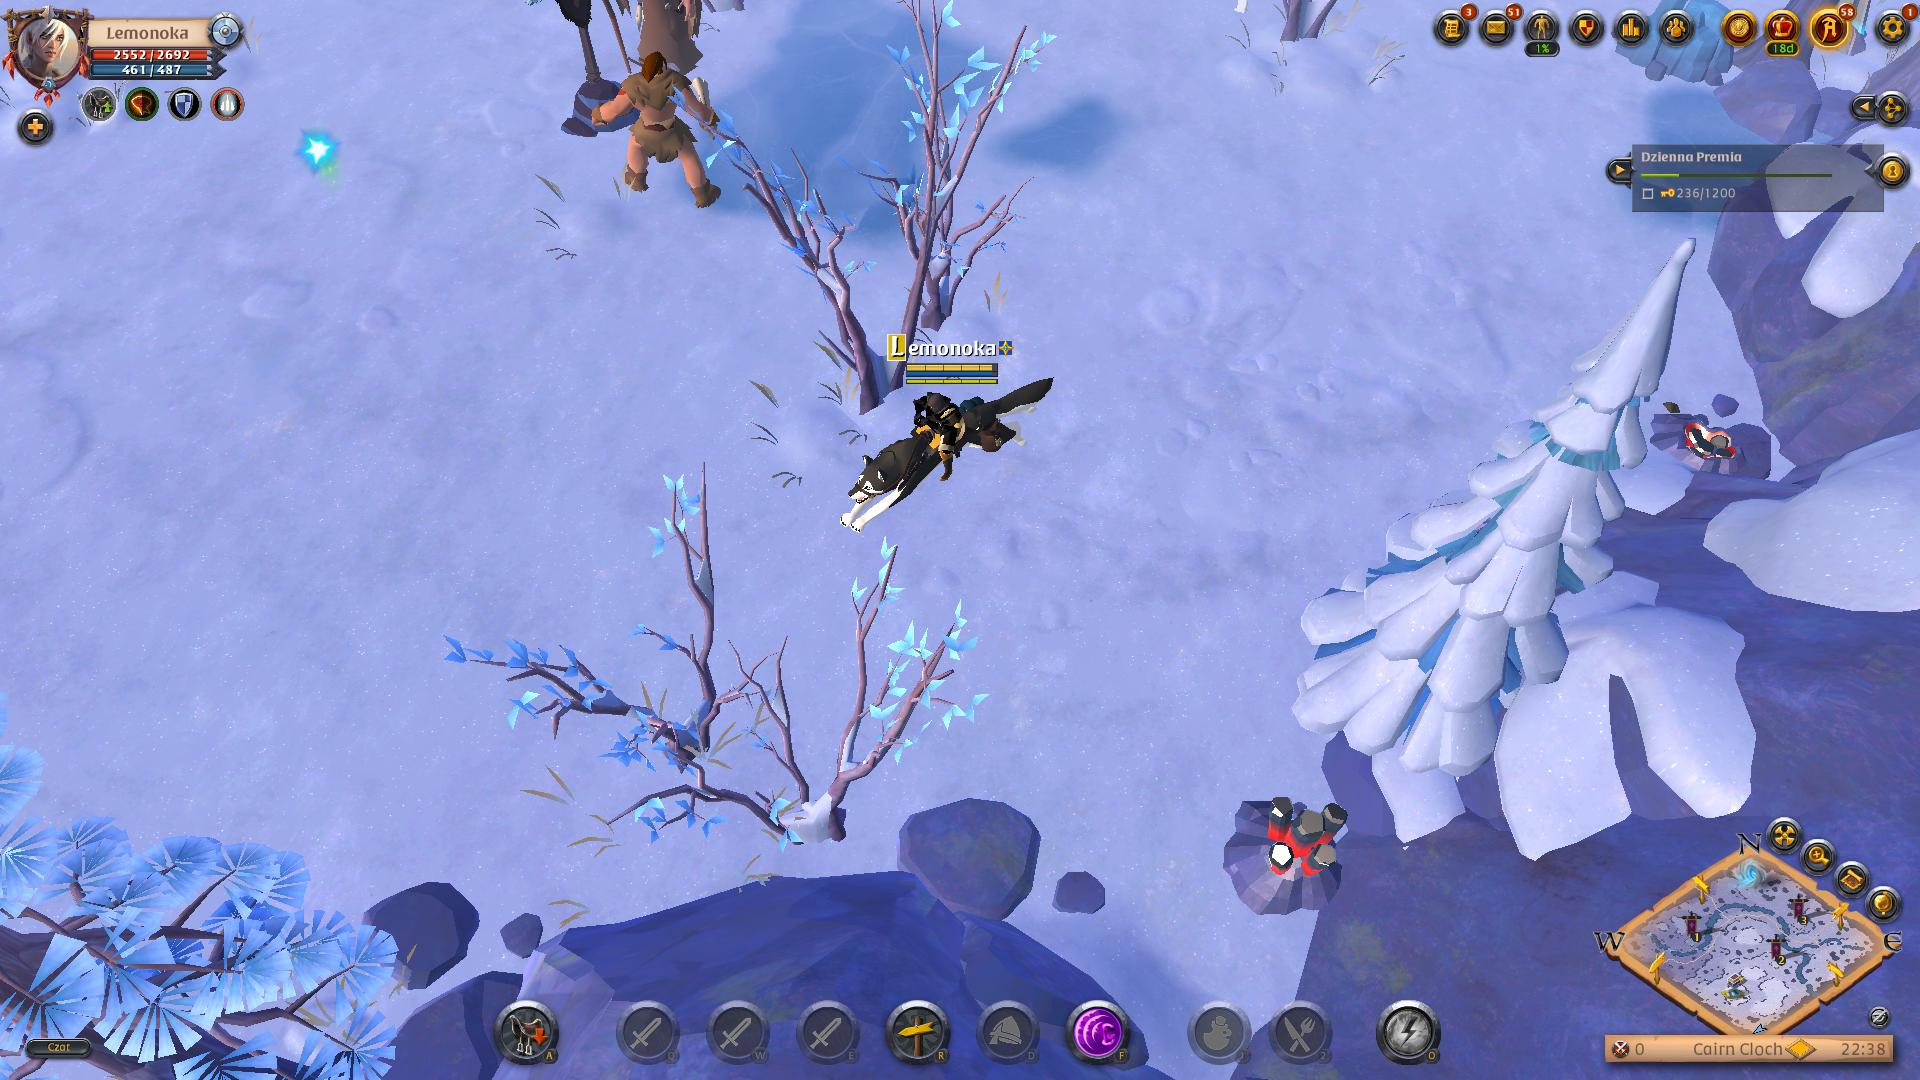ore tier 5: (1224, 790, 1350, 911)
